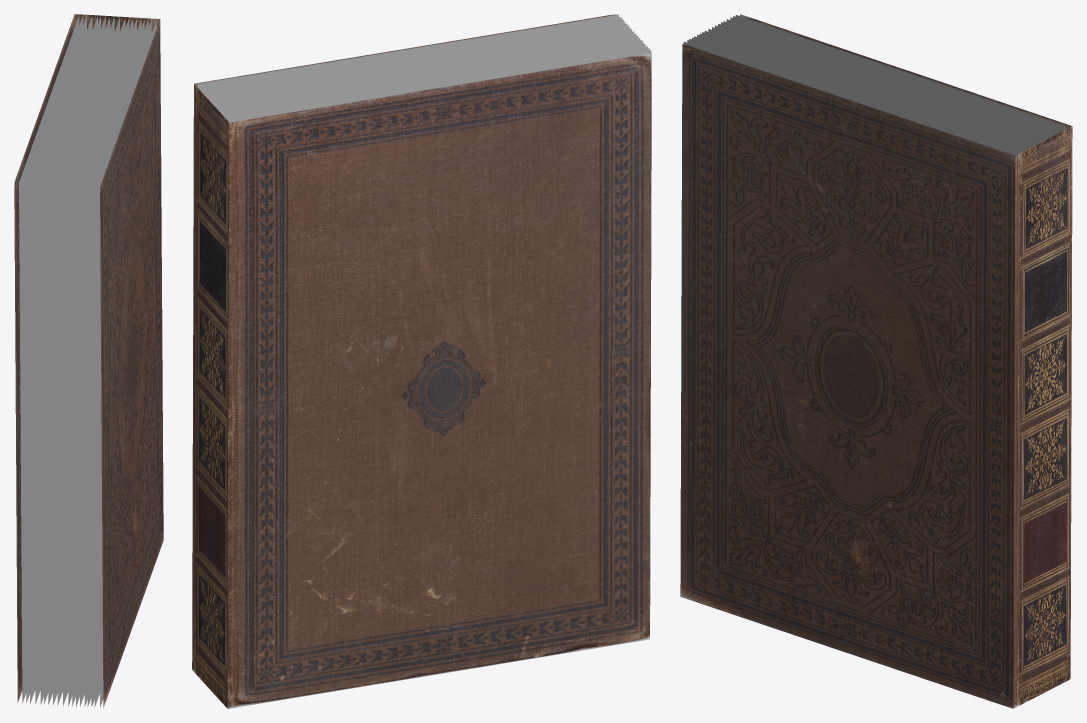
The model's file is buku.glb.
3 renders of one model, left to right at view 1: azimuth 30°, elevation 25°; view 2: azimuth 150°, elevation 25°; view 3: azimuth 270°, elevation 25°, orthographic. The views are drawn at different scales.
Parts seen in each view (by area): view 1: sites_Plane; view 2: sites_Plane; view 3: sites_Plane.
Boxes of the visible parts, x1,y1,x2,y2 form: sites_Plane: (14, 14, 163, 708); sites_Plane: (192, 14, 651, 708); sites_Plane: (680, 14, 1072, 708).
Bounding box in the file's own units: 2.22 × 3.98 × 2.56.
2 materials, 1 textured.
